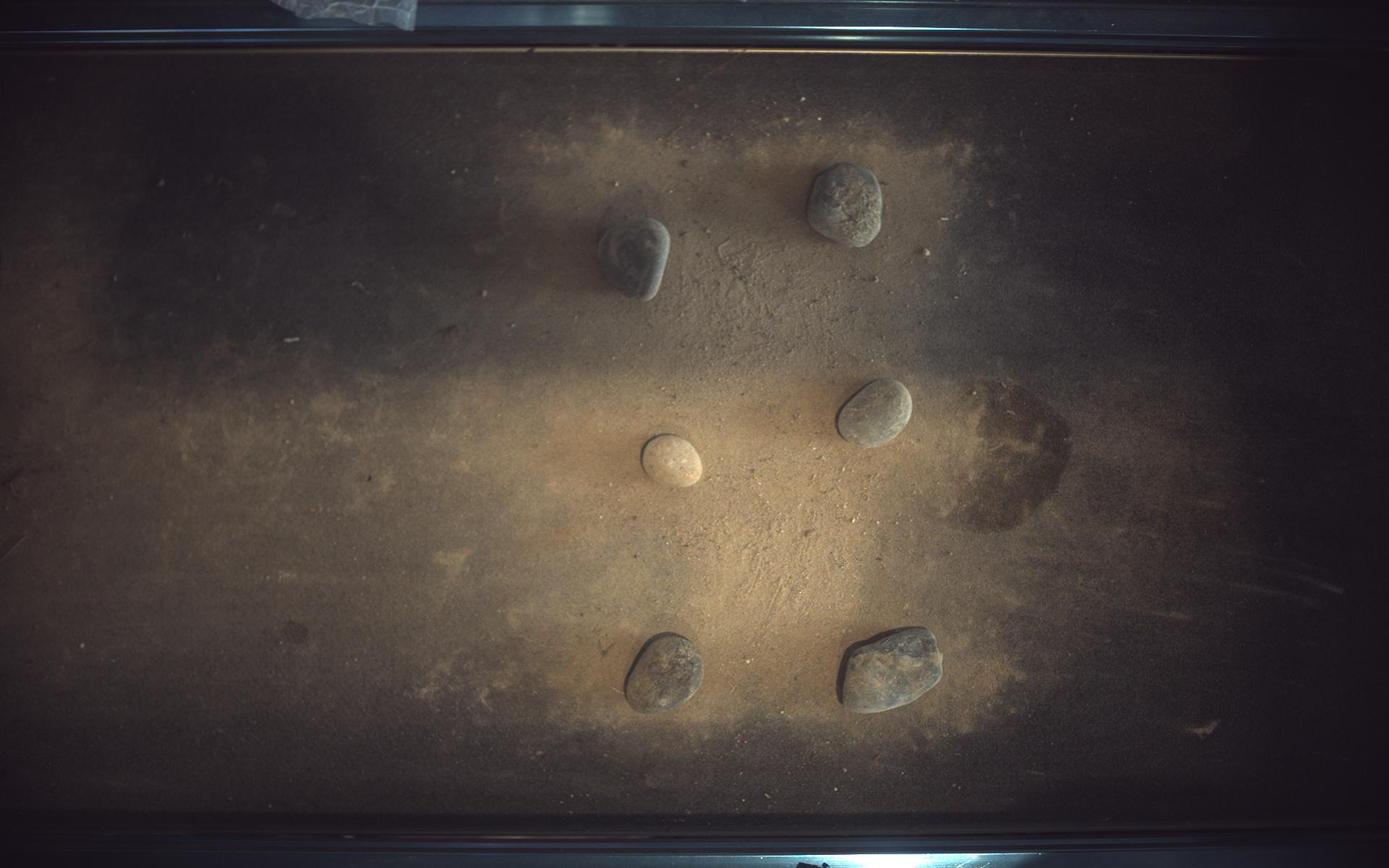stone: (844, 627, 944, 715), (809, 161, 885, 247), (626, 634, 705, 715), (598, 218, 671, 300), (839, 378, 914, 448), (642, 435, 703, 488)
